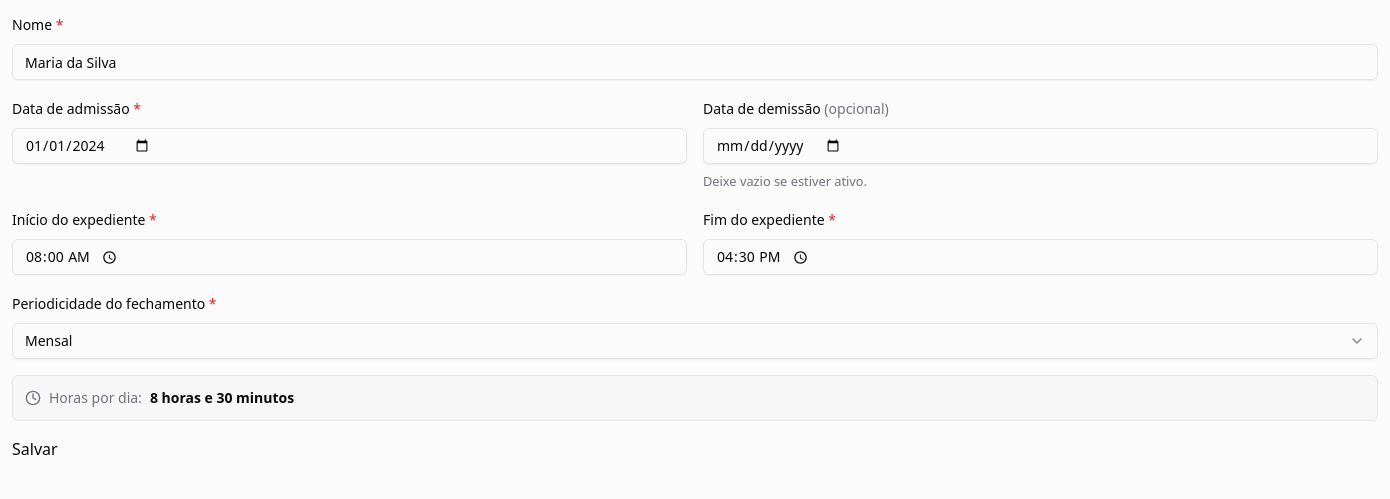
it: EmployeeForm › shows the required message as soon as a required field is cleared
This screenshot has width=1390, height=499.
Clear the field labelled "Nome *" at (695, 62), box [12,44,1378,80]
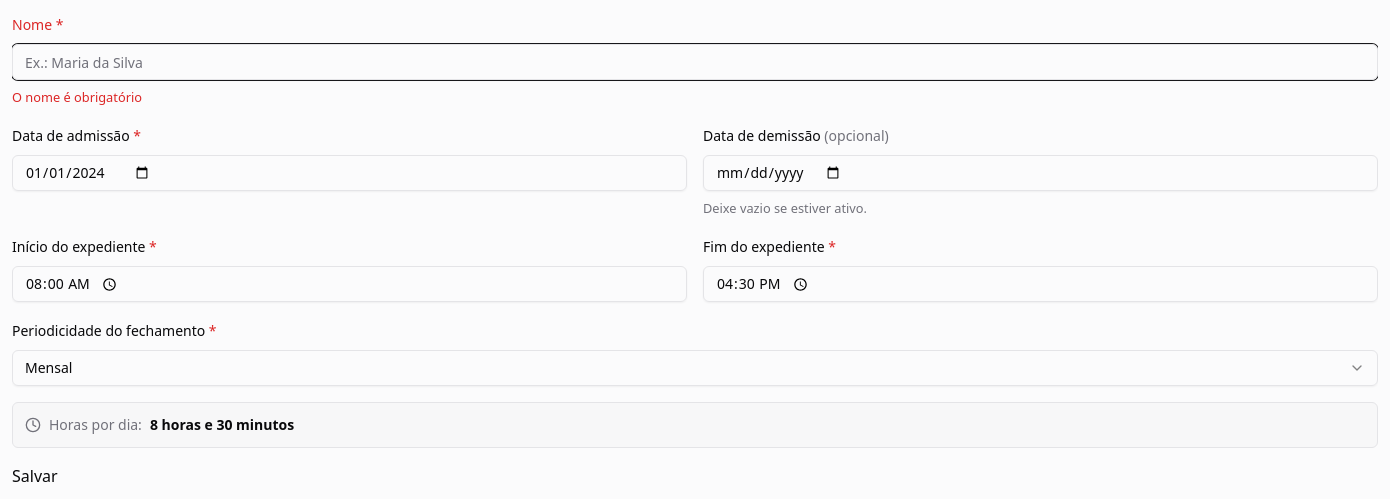
Result: the text "O nome é obrigatório" is shown at [12,88,142,106]
